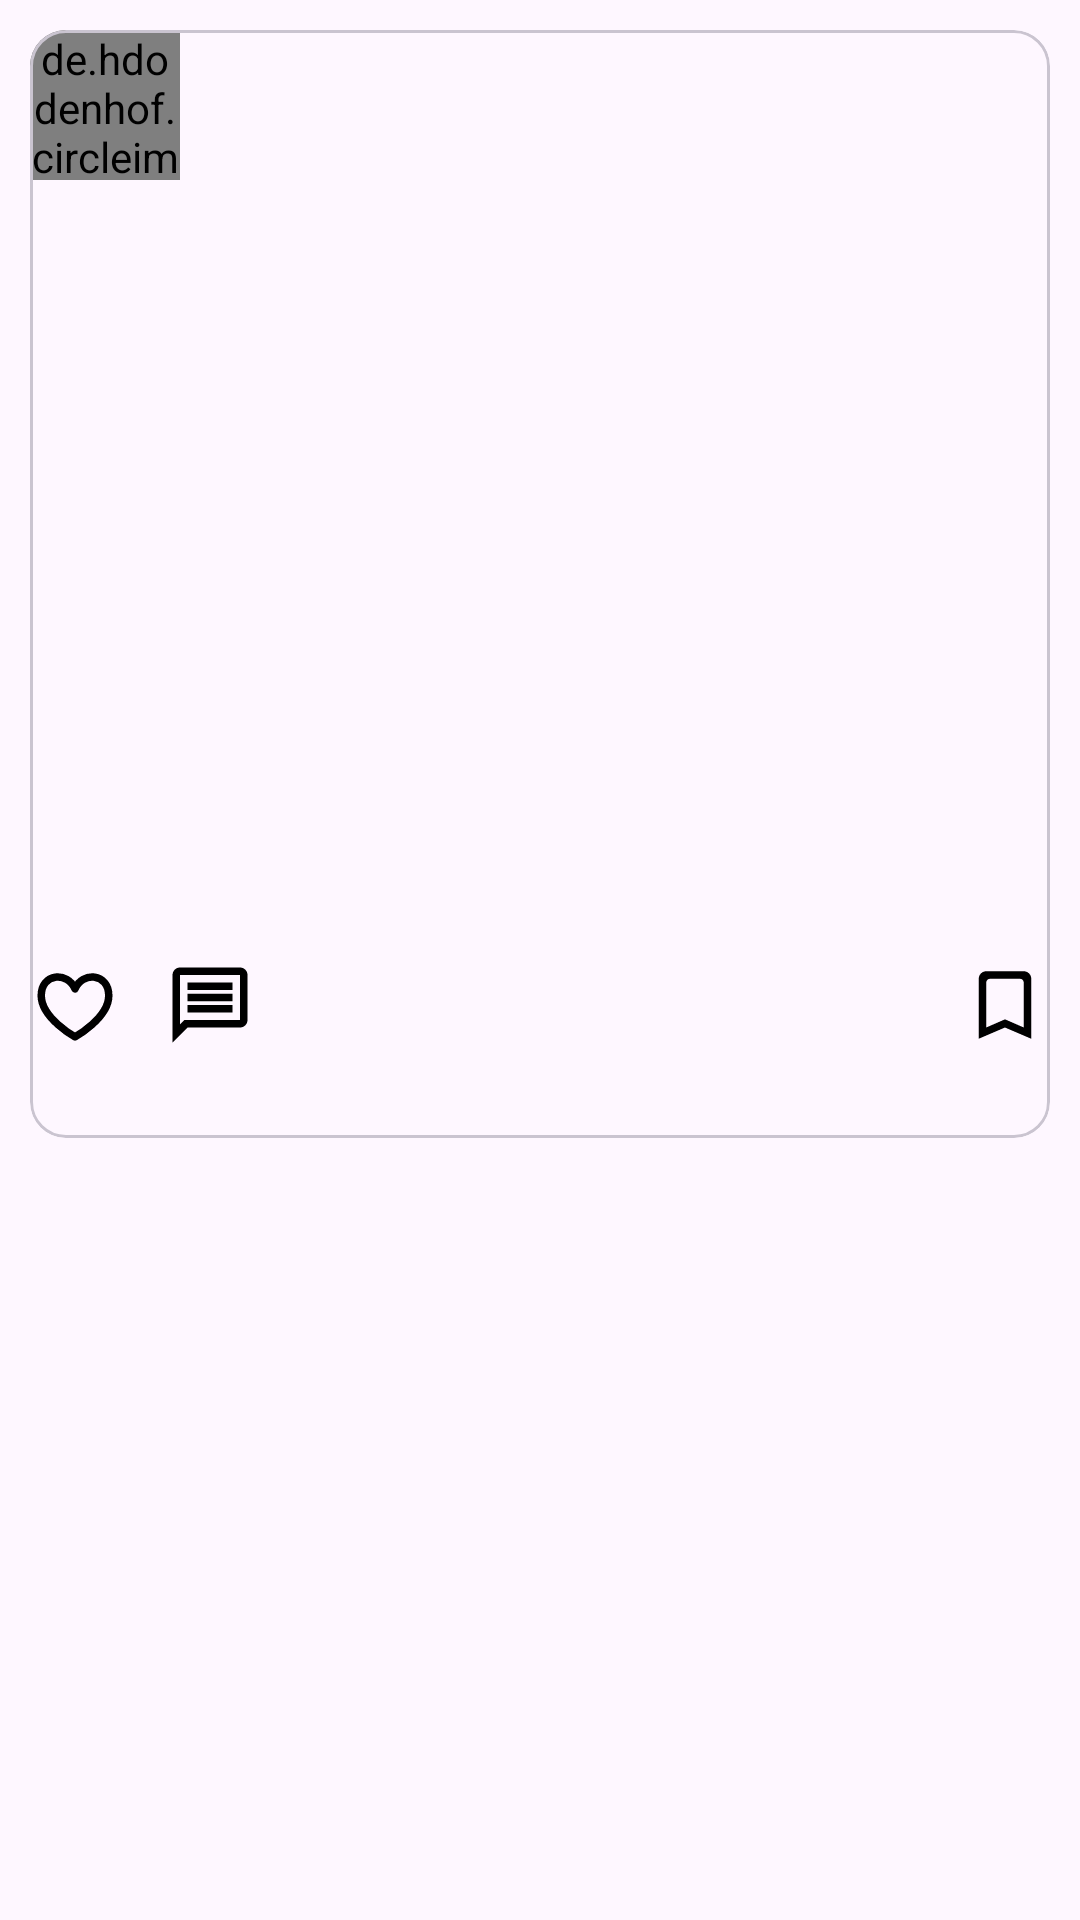

Screen size 1080*1920. Icon name, then its center in pixels as (x,y):
comments: (210,1005)
heart: (75,1007)
save: (1005,1005)
